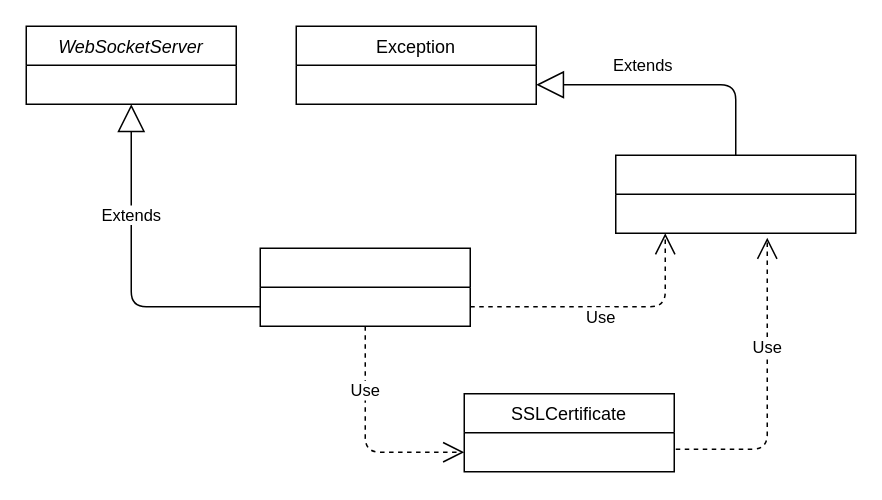
Image size: 882x500. Some labels were removed from this diagram. The centre of each missing label's shape, as x and y in pixels:
"SSLCertificateException" belongs at point 735,193.
"WSServer" belongs at point 364,286.
